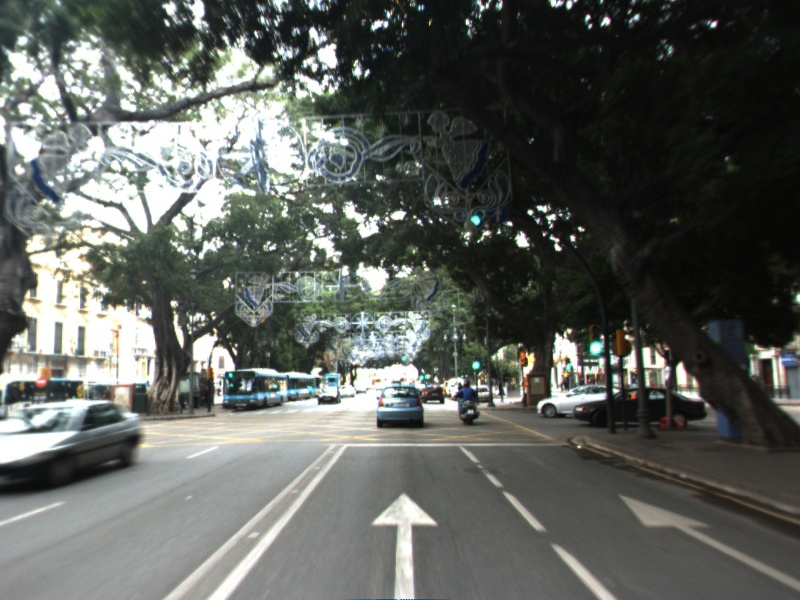STRAIGHT: (613, 489, 800, 590), (367, 487, 441, 600)
